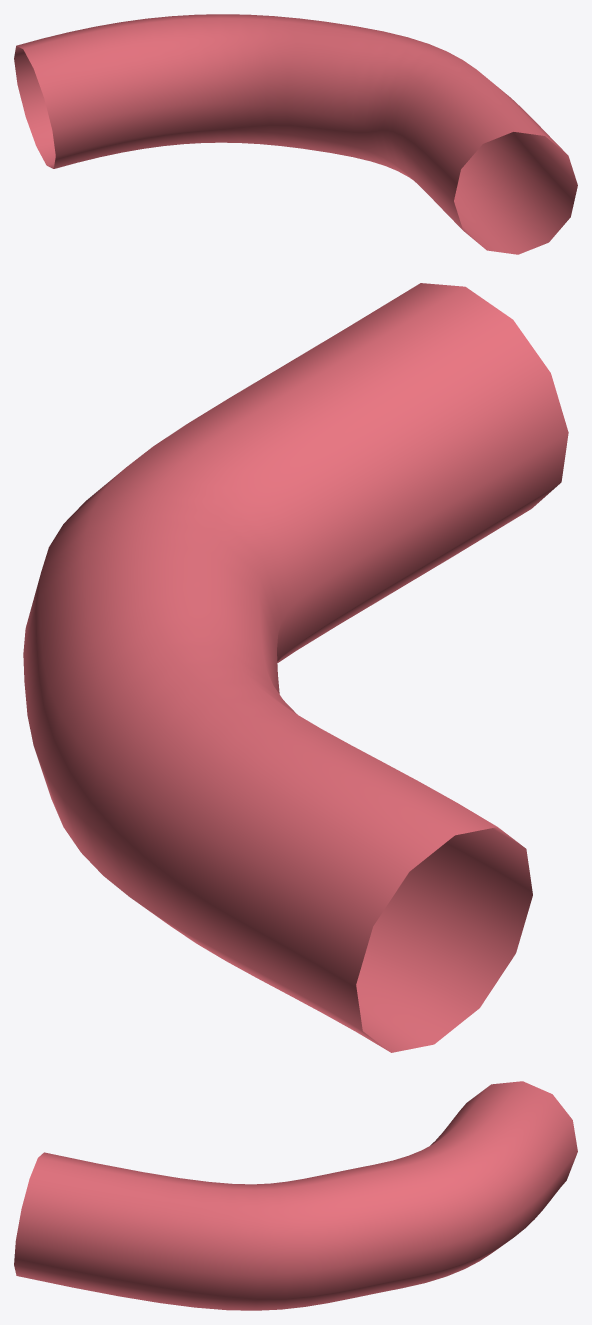
The picture shows the model from 3 angles, top to bottom: view 1: azimuth 30°, elevation 25°; view 2: azimuth 150°, elevation 25°; view 3: azimuth 270°, elevation 25°; orthographic projection. The views are drawn at different scales.
Visible parts, largest first — view 1: ZA_0beb845f75344b17; view 2: ZA_0beb845f75344b17; view 3: ZA_0beb845f75344b17.
Part boxes in pixels (x1,y1,x2,y2): ZA_0beb845f75344b17: (14,14,577,254); ZA_0beb845f75344b17: (23,283,568,1052); ZA_0beb845f75344b17: (14,1081,577,1310).
Size of the model in its own units: 0.00604 by 0.00265 by 0.00889.
